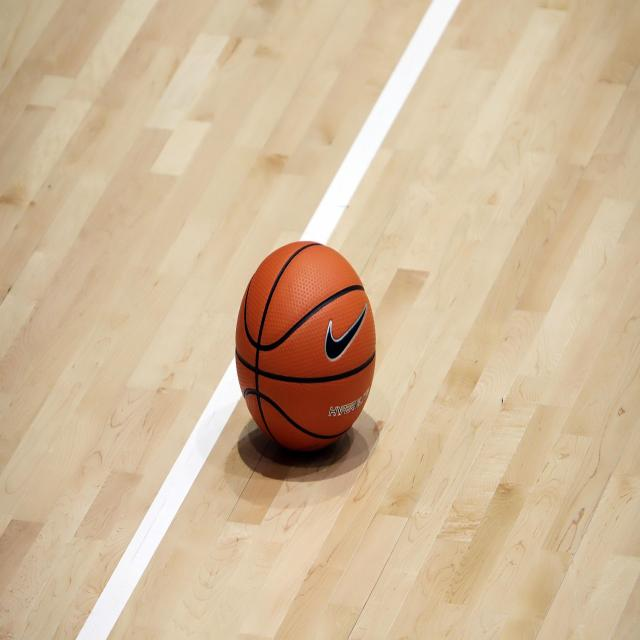Basketball: (234, 239, 375, 455)
